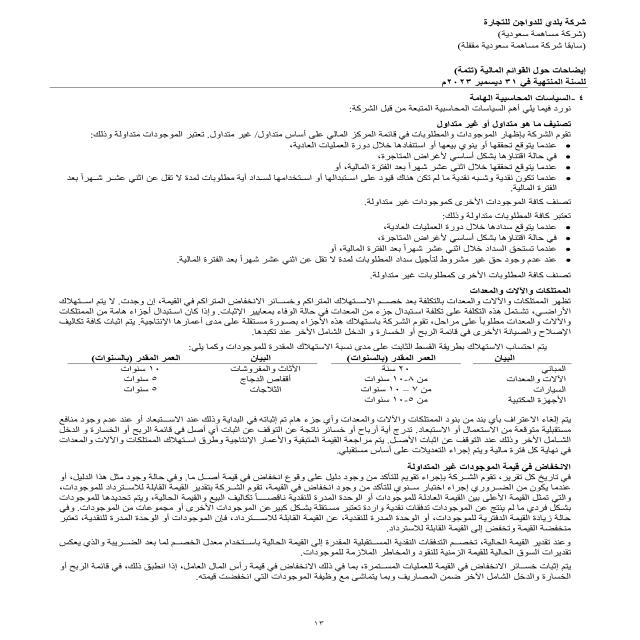notes: (448, 62, 588, 76)
table: (48, 356, 577, 401)
